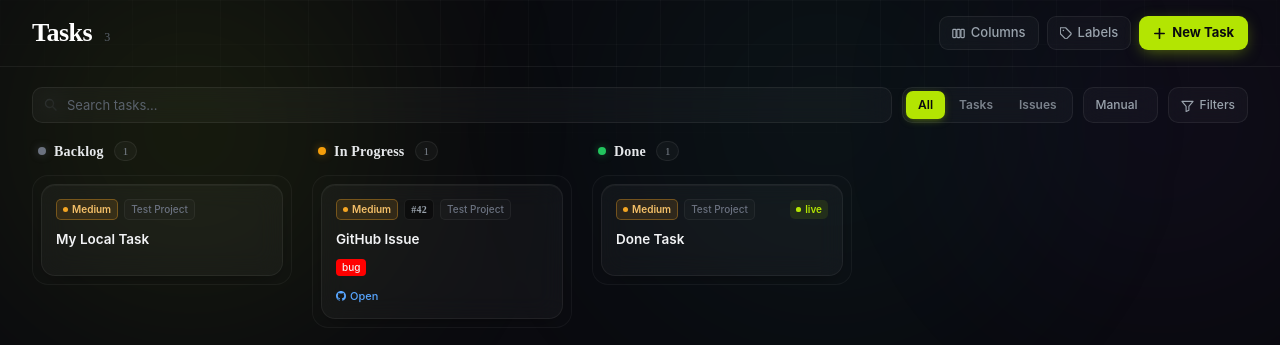
Scenario: KanbanBoard › restores all tasks after clearing filters
Expected: the heading "Backlog" is shown, [54,140,104,162]
Click the tab "Issues": (1038, 105) [1007,91,1068,119]
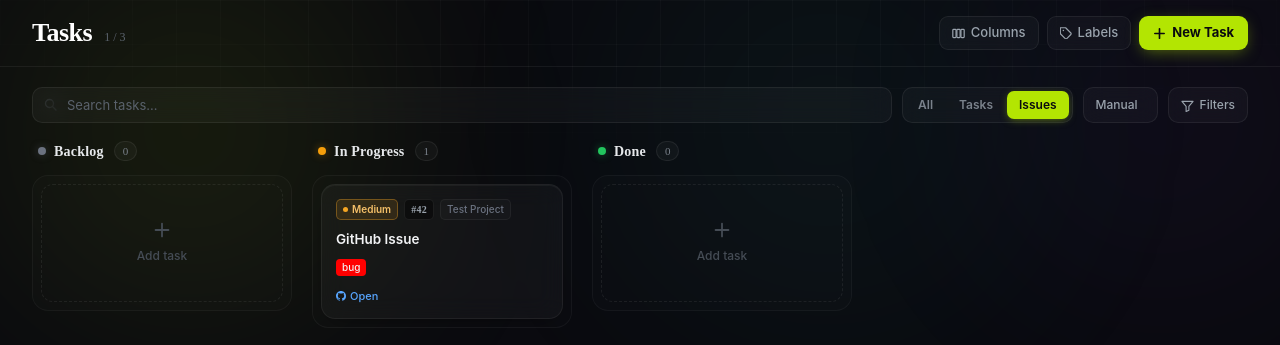
Expected: the heading "My Local Task" is gone
Click the tab "All": (926, 105) [906,91,945,119]
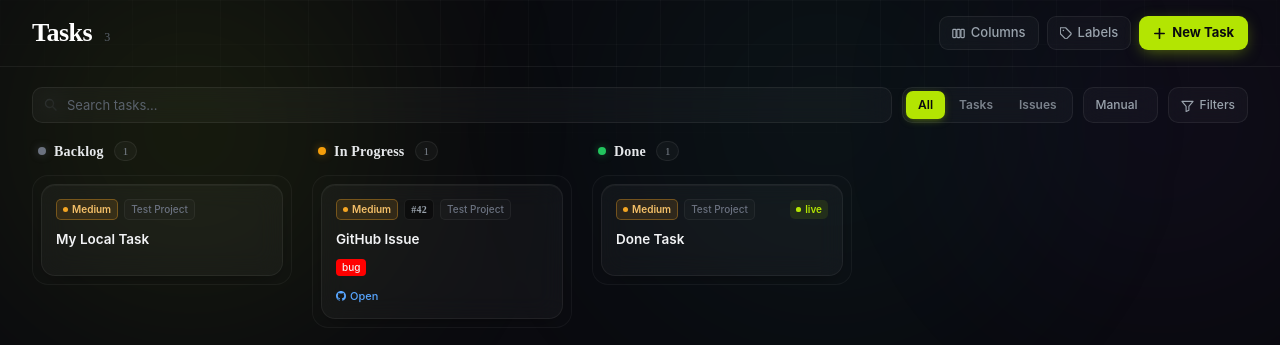
Expected: the heading "My Local Task" is shown, [56,231,149,247]
